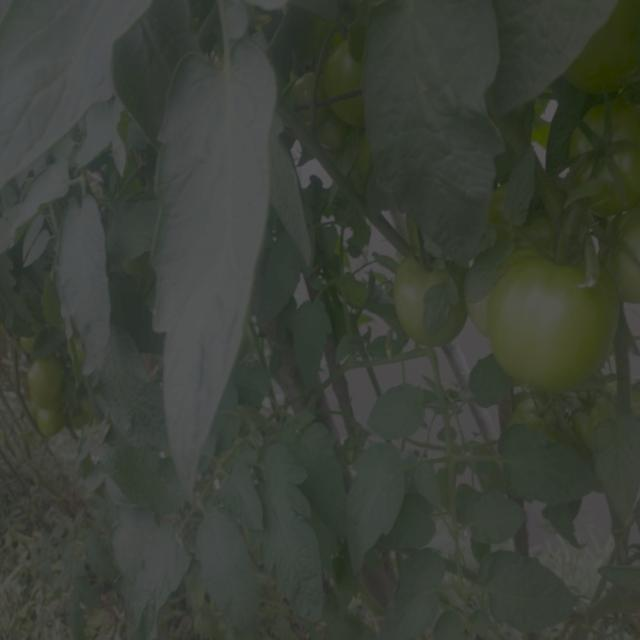tomato: (488, 249, 615, 395), (576, 101, 640, 207), (564, 1, 640, 88), (320, 45, 373, 132), (392, 256, 436, 330), (605, 217, 640, 306), (517, 394, 571, 433), (20, 364, 66, 407), (40, 405, 74, 442)
